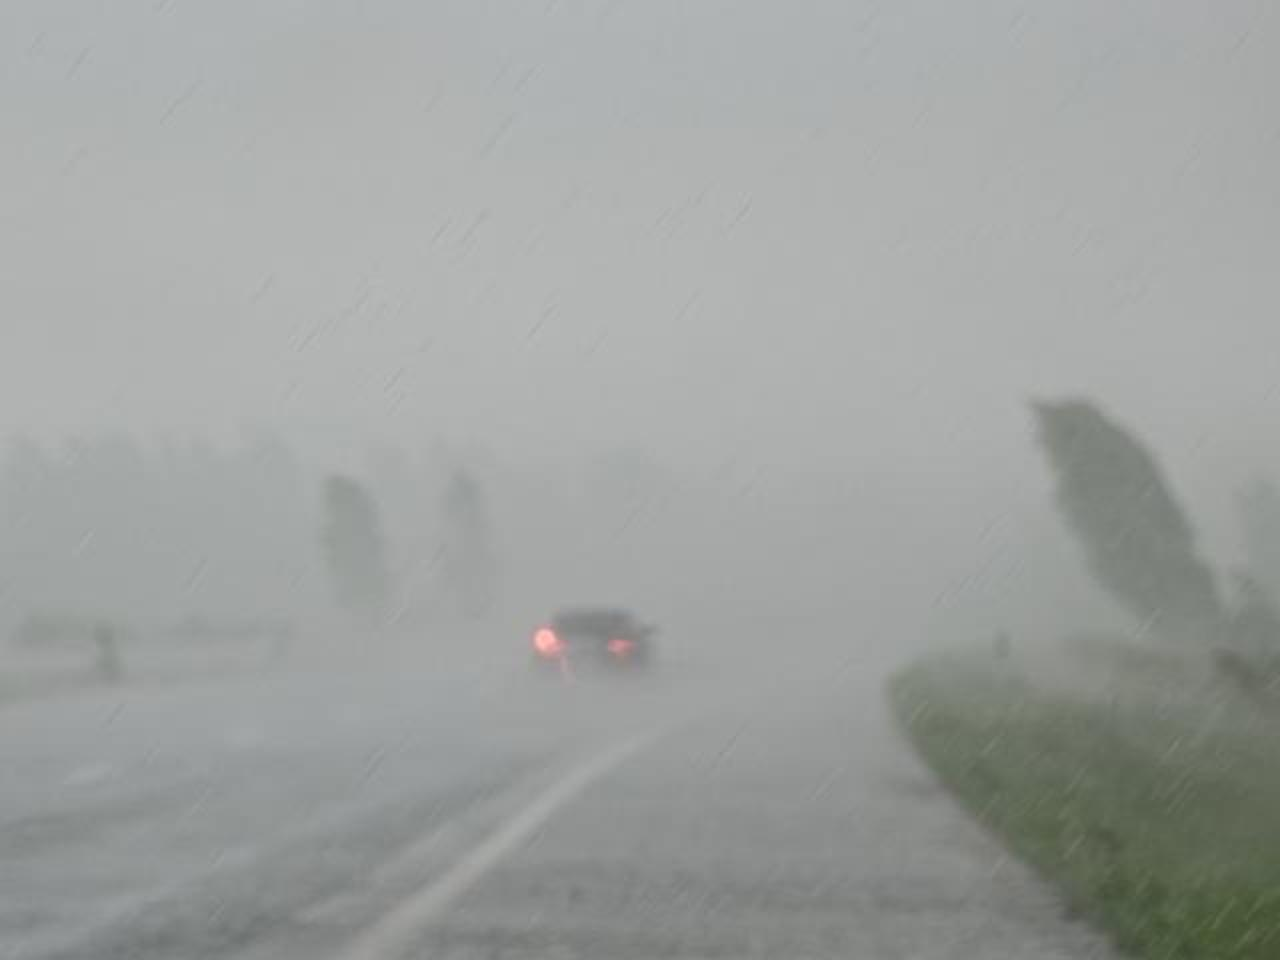car: (525, 607, 660, 681)
